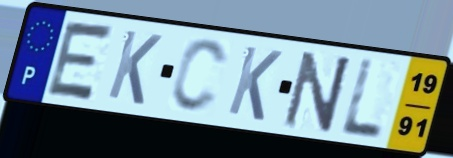C: (168, 36, 230, 116)
E: (42, 18, 118, 104)
K: (224, 42, 285, 124), (104, 26, 165, 108)
L: (337, 57, 385, 142)
N: (280, 49, 355, 134)
